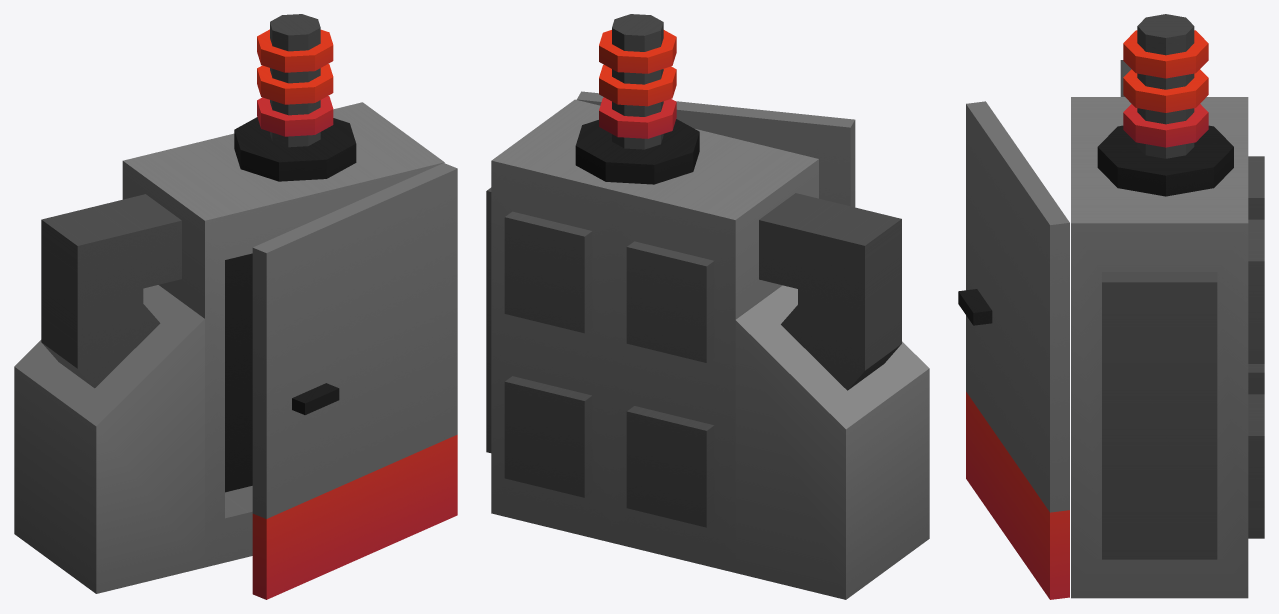
The model's file is HV Transformer Box.obj.
3 views of the same model, side by side, from view 1: azimuth 30°, elevation 25°; view 2: azimuth 150°, elevation 25°; view 3: azimuth 270°, elevation 25° (orthographic). The views are drawn at different scales.
Parts seen in each view (by area): view 1: Cube_Cube.002, Cube.002_Cube.003, Cylinder; view 2: Cube_Cube.002, Cylinder, Cube.002_Cube.003; view 3: Cube_Cube.002, Cube.002_Cube.003, Cylinder.
Boxes of the visible parts, x1,y1,x2,y2 form: Cube_Cube.002: [14, 102, 444, 593]; Cube.002_Cube.003: [252, 163, 457, 599]; Cylinder: [234, 14, 356, 181]; Cube_Cube.002: [486, 99, 929, 599]; Cylinder: [575, 14, 699, 184]; Cube.002_Cube.003: [576, 91, 855, 207]; Cube_Cube.002: [1071, 60, 1264, 598]; Cube.002_Cube.003: [958, 101, 1069, 599]; Cylinder: [1097, 14, 1233, 196].
Bounding box in the file's own units: 1.71 × 2.12 × 1.14.
